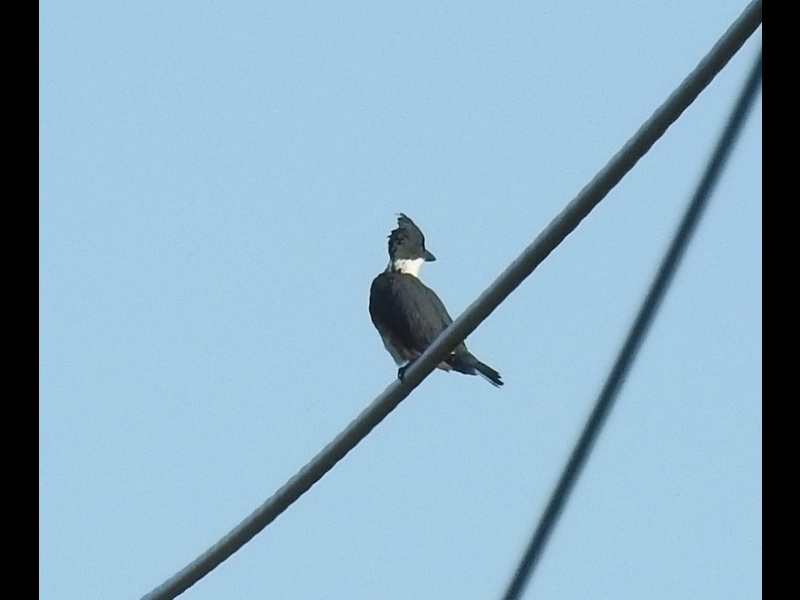kingfisher: (361, 211, 506, 396)
